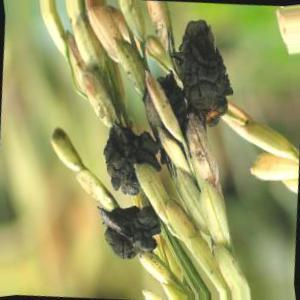False Smut: (179, 23, 229, 120), (102, 128, 156, 195), (99, 205, 176, 236)
